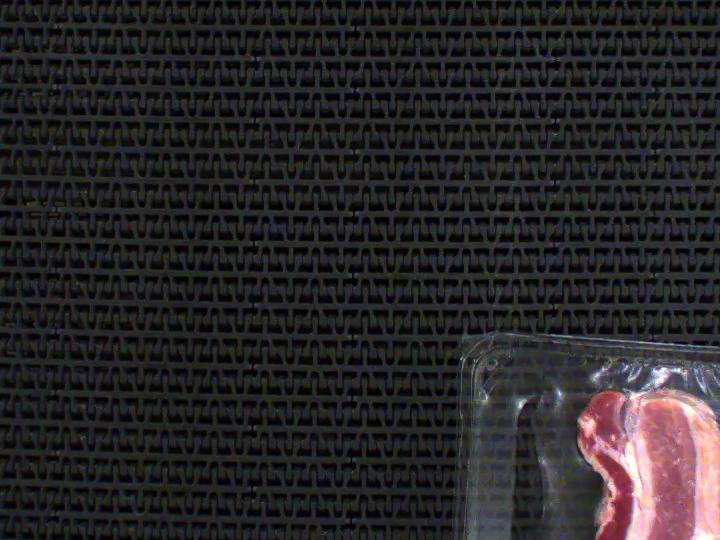unsealed: (472, 338, 720, 540)
